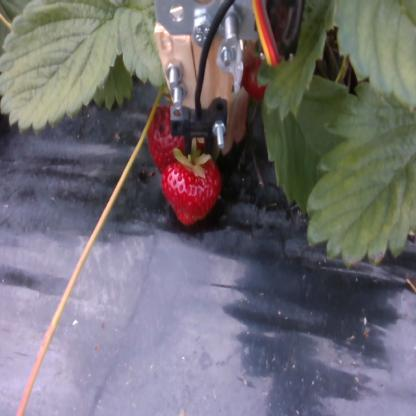ripe: (162, 156, 224, 231), (147, 104, 198, 174), (242, 39, 281, 103)
